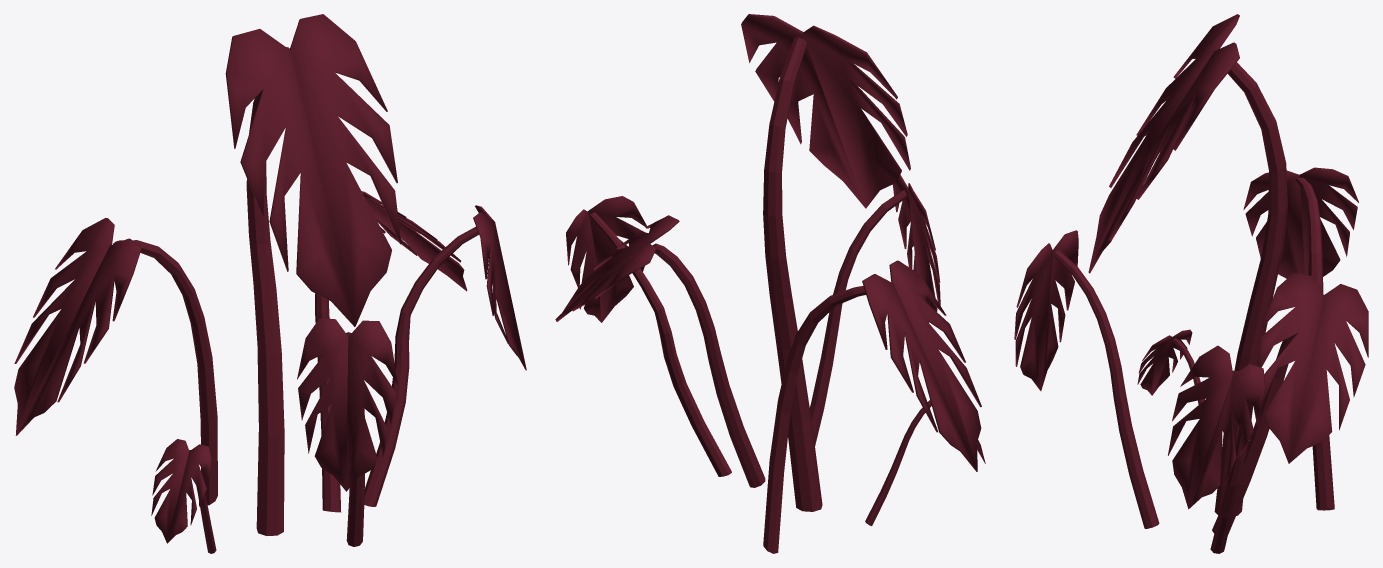
The model's file is Muerta_Gra_Monstera.fbx.
3 views of the same model, side by side, from view 1: azimuth 30°, elevation 25°; view 2: azimuth 150°, elevation 25°; view 3: azimuth 270°, elevation 25° (orthographic). The views are drawn at different scales.
Parts seen in each view (by area): view 1: Plane.045; view 2: Plane.045; view 3: Plane.045.
Boxes of the visible parts, x1,y1,x2,y2 form: Plane.045: [14, 14, 526, 553]; Plane.045: [555, 14, 985, 553]; Plane.045: [1014, 14, 1368, 553].
Size of the model in its own units: 418 by 447 by 292.
